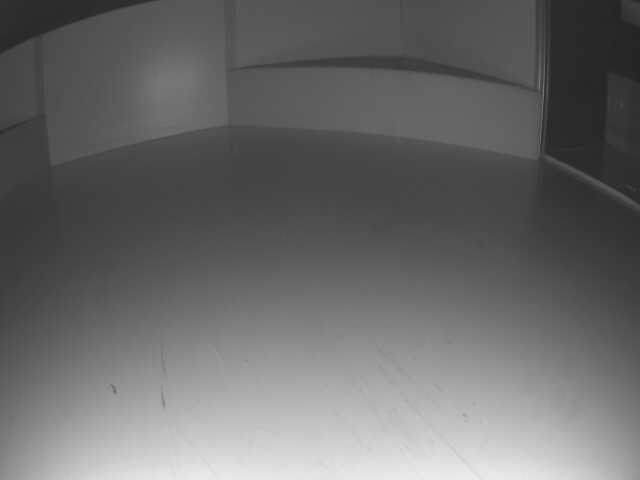Point: (228, 70, 541, 159), (0, 115, 47, 196)
